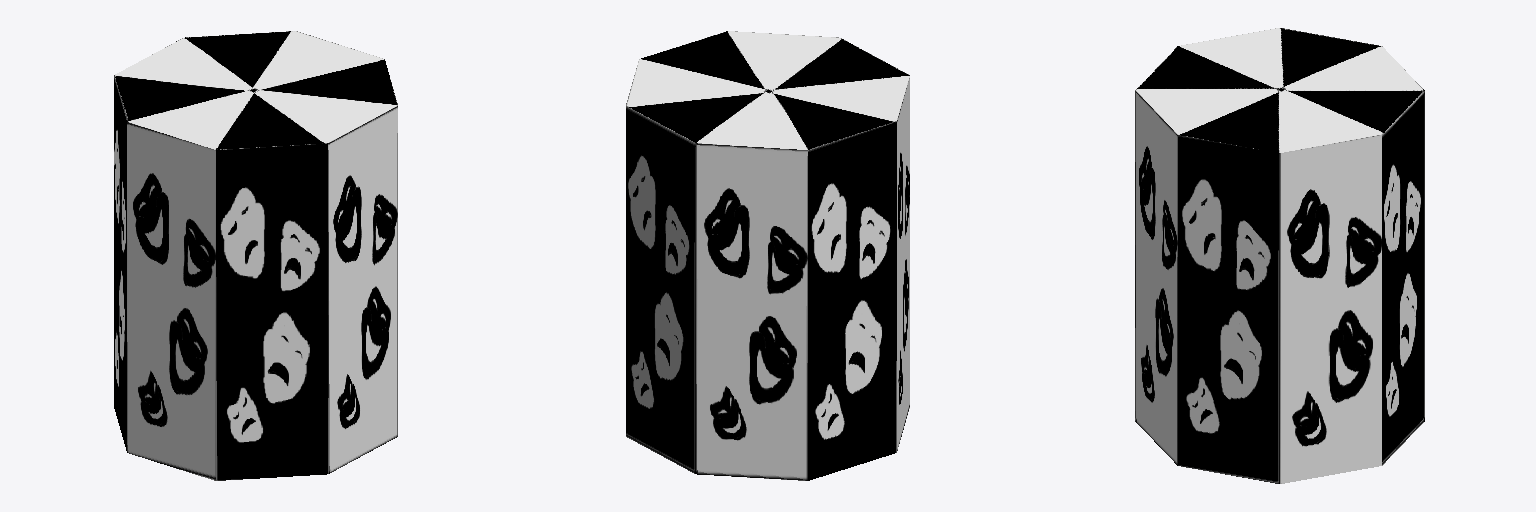
3 views of the same model, side by side, from view 1: azimuth 30°, elevation 25°; view 2: azimuth 150°, elevation 25°; view 3: azimuth 270°, elevation 25° (orthographic).
Parts seen in each view (by area): view 1: Cylinder; view 2: Cylinder; view 3: Cylinder.
Boxes of the visible parts, x1,y1,x2,y2 form: Cylinder: [114, 31, 397, 480]; Cylinder: [626, 31, 909, 480]; Cylinder: [1135, 28, 1424, 483].
Bounding box in the file's own units: 4.07 × 4.99 × 3.95.
Materials: 1 (1 with a texture image).